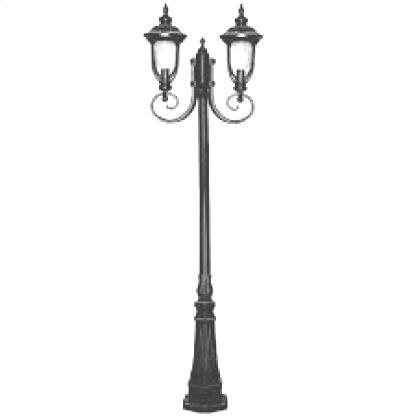light_pole: (145, 2, 265, 413)
